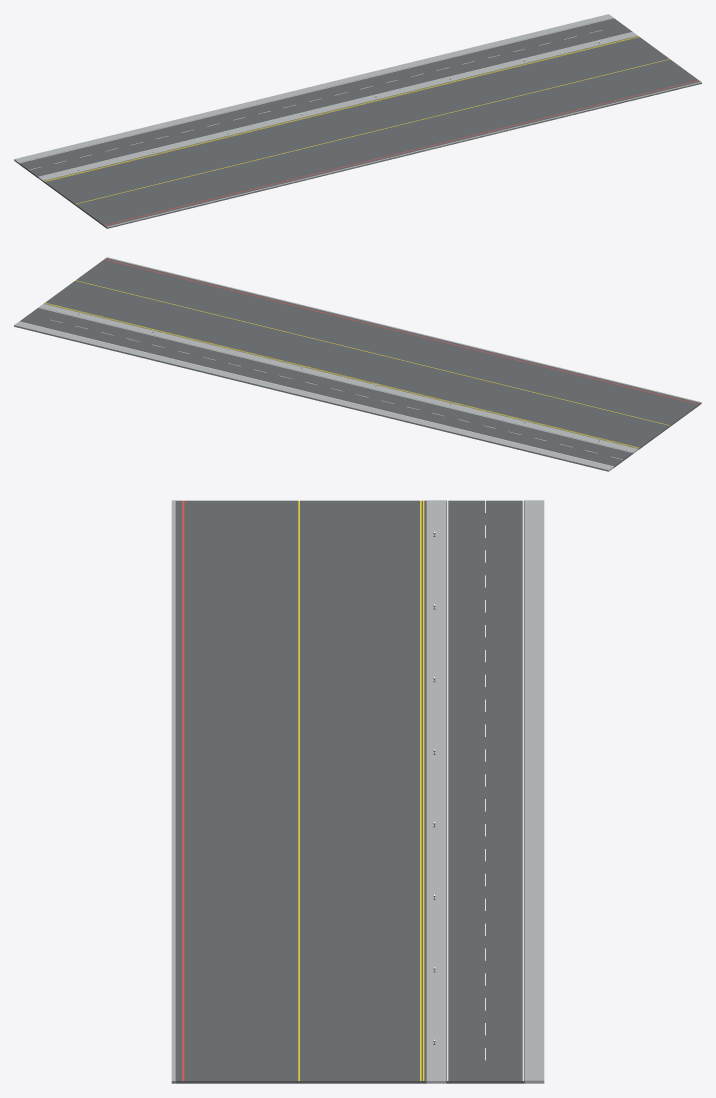
Rendered from PlanePathway.fbx.
3 renders of one model, top to bottom at view 1: azimuth 30°, elevation 25°; view 2: azimuth 150°, elevation 25°; view 3: azimuth 270°, elevation 25°, orthographic. The views are drawn at different scales.
Visible parts, largest first — view 1: Airport_Taxiway_And_Service_Road; view 2: Airport_Taxiway_And_Service_Road; view 3: Airport_Taxiway_And_Service_Road.
Boxes of the visible parts, x1,y1,x2,y2 form: Airport_Taxiway_And_Service_Road: (14, 14, 701, 228); Airport_Taxiway_And_Service_Road: (14, 257, 701, 471); Airport_Taxiway_And_Service_Road: (171, 500, 544, 1083).
Bounding box in the file's own units: 14000 × 84 × 3800.
